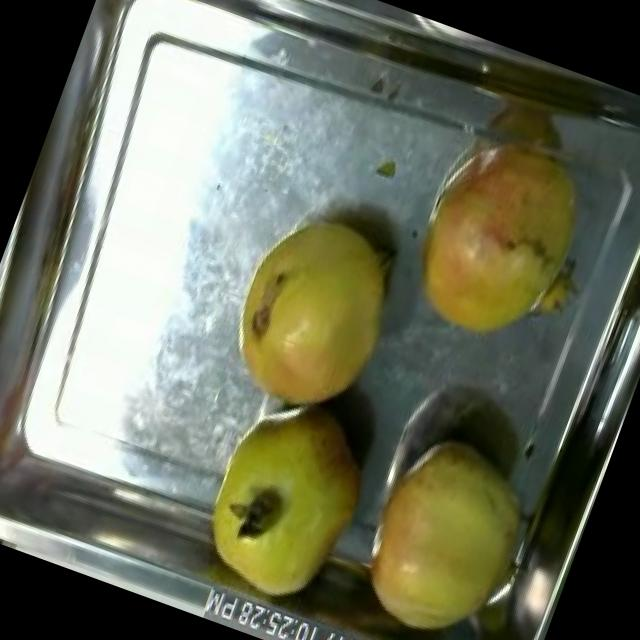fruit: (375, 95, 630, 380), (202, 182, 426, 442), (178, 376, 397, 624), (332, 411, 558, 640)
